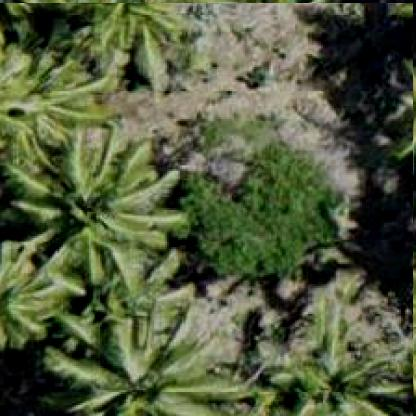coconut tree: (0, 2, 415, 415)
